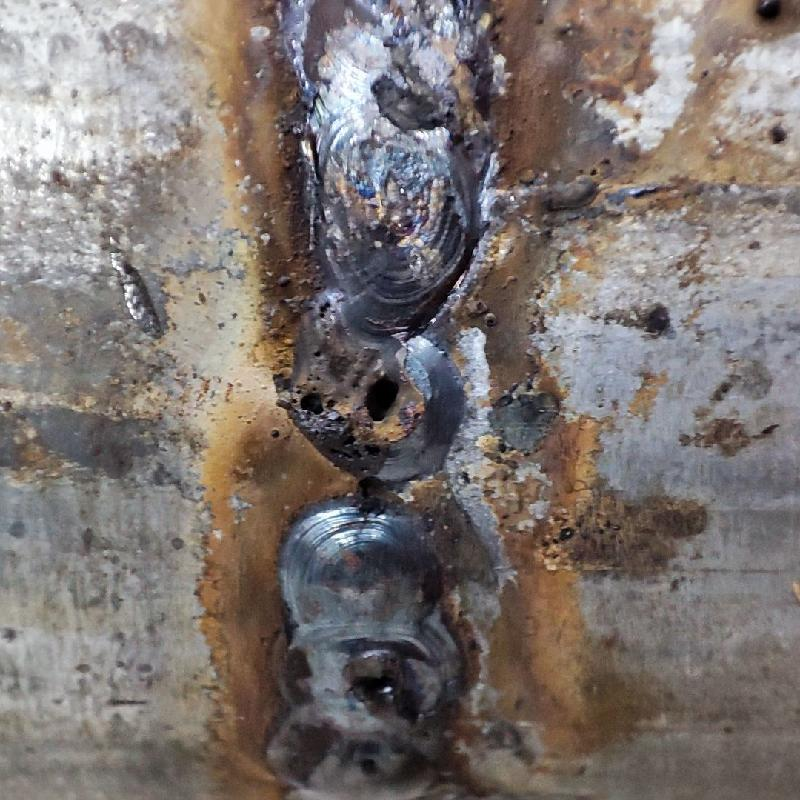Surface_pores: (283, 355, 425, 443), (339, 661, 415, 719)
wrong_size: (270, 4, 495, 796)
